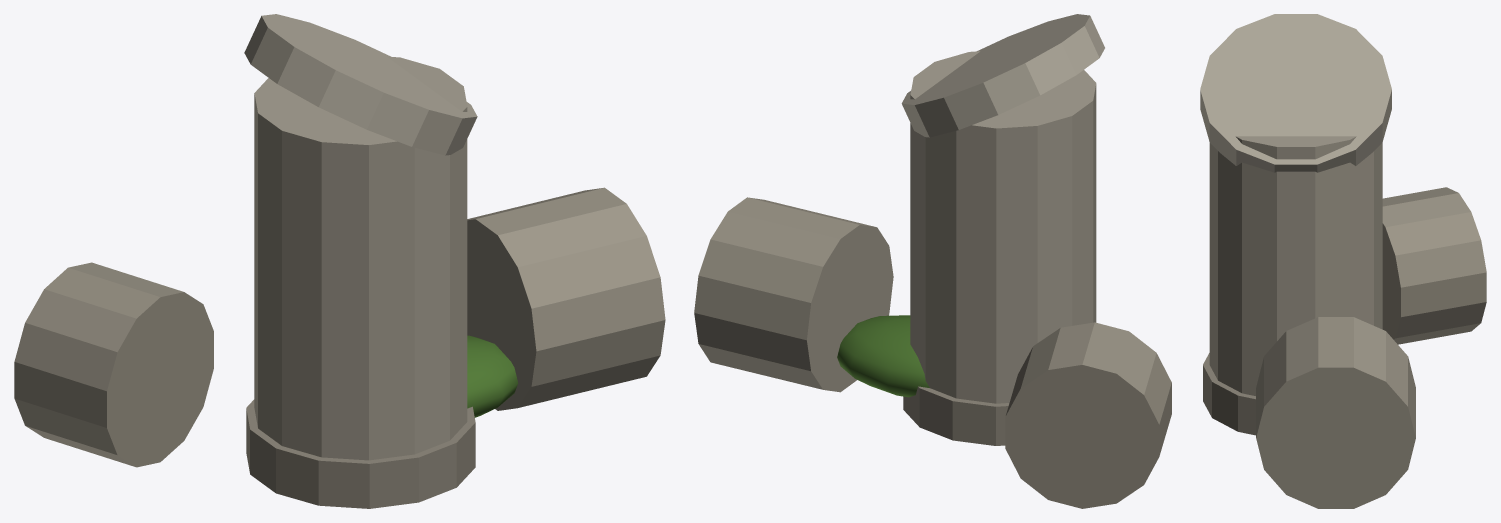
File: deco_pillar_broken_lite.glb
3 renders of one model, left to right at view 1: azimuth 30°, elevation 25°; view 2: azimuth 150°, elevation 25°; view 3: azimuth 270°, elevation 25°, orthographic. The views are drawn at different scales.
Visible parts, largest first — view 1: Cylinder; view 2: Cylinder; view 3: Cylinder.
Part boxes in pixels (box(x1,y1,x2,y2)): Cylinder: box(14, 14, 665, 508); Cylinder: box(694, 14, 1171, 508); Cylinder: box(1200, 14, 1486, 508).
Bounding box in the file's own units: 3.78 × 2.95 × 2.15.
